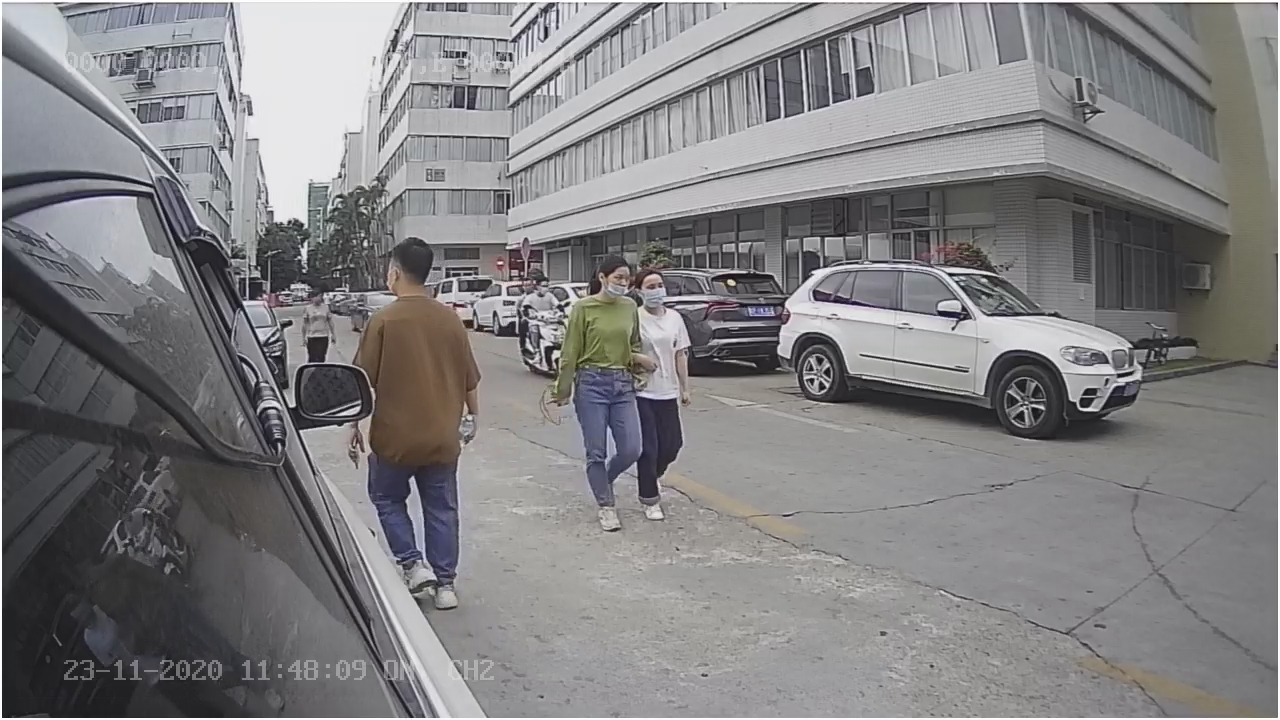person: (546, 249, 648, 529)
